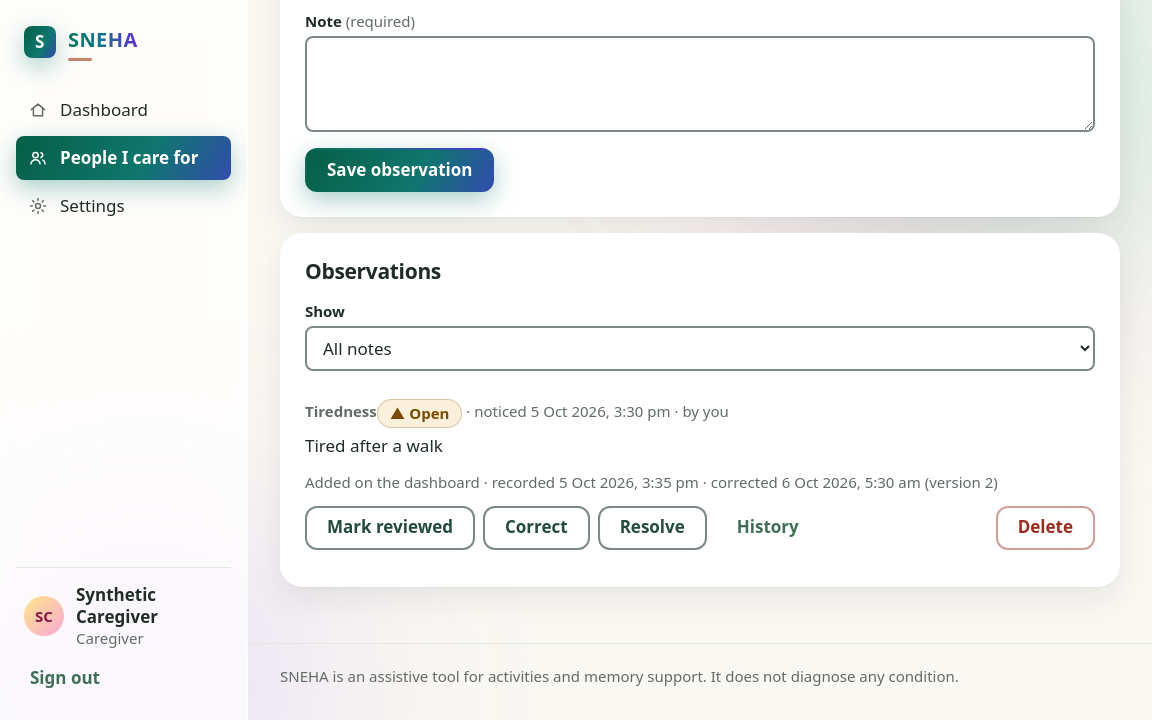
Test case: caregiver observations › shows the revision history
(page scrolled)
Click the button with aria-label "History:". click: (768, 528)
box: [715,506,821,550]
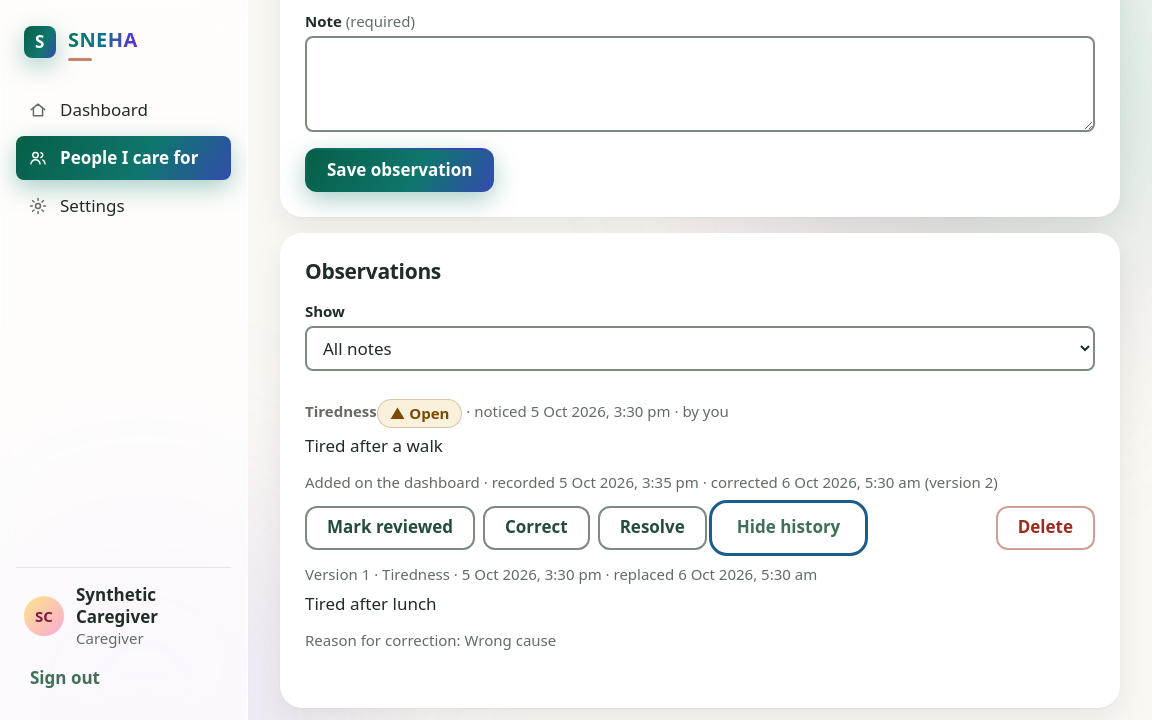
Expected: the text "version 2" is shown, [699,472,998,492]
Result: the text "Tired after lunch" is shown at [305,592,437,615]
Result: the text "Reason for correction: Wrong cause" is shown at [305,630,556,650]
